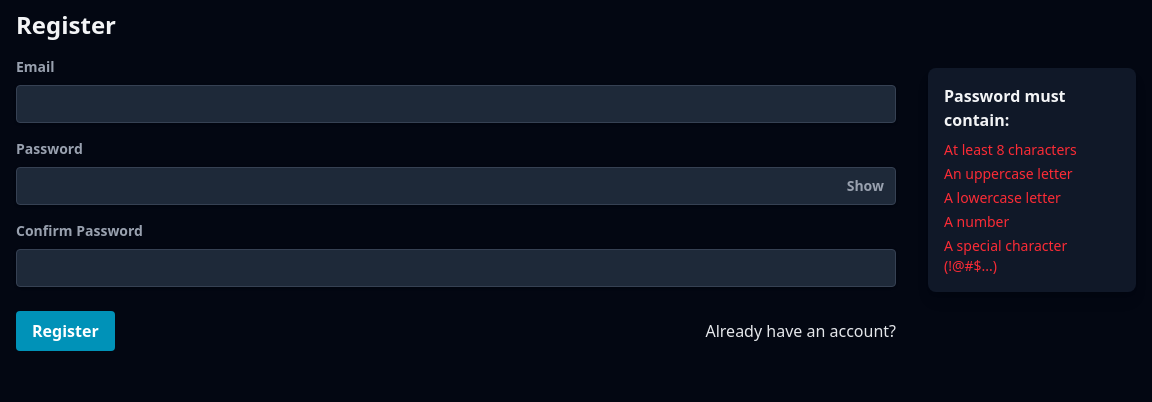
Test: RegistrationForm › shows error if password is invalid
Type "test@example.com" into the field labelled "Email" at (456, 104), box [16,85,896,123]
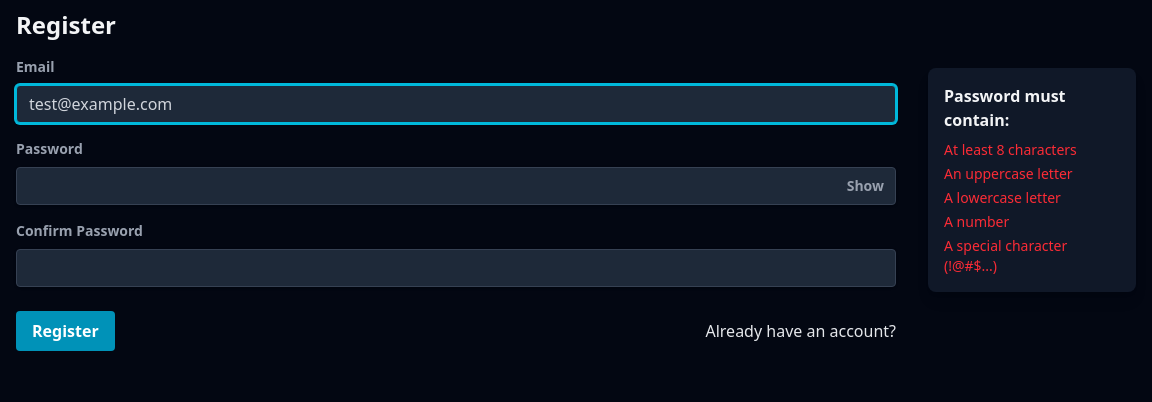
Type "weak" into the password field labelled "Password" at (456, 186), box [16,167,896,205]
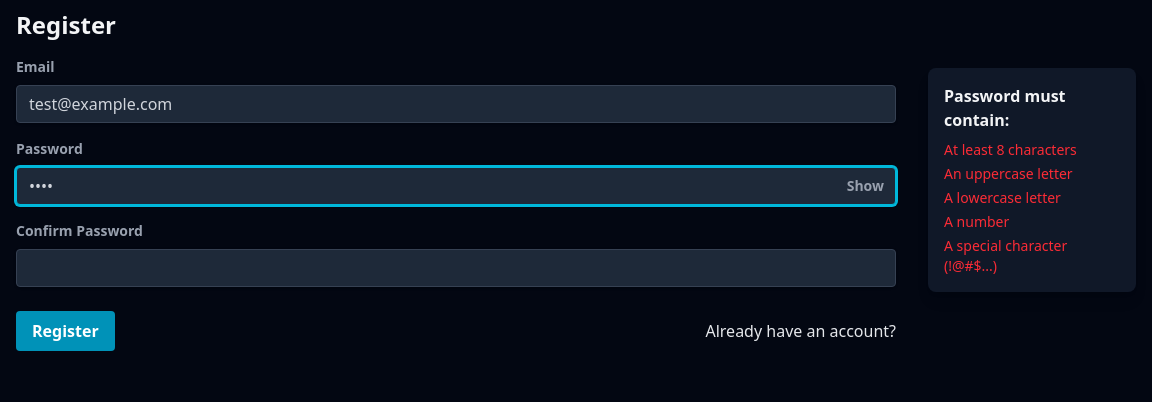
Type "weak" into the password field labelled "Confirm Password" at (456, 268), box [16,249,896,287]
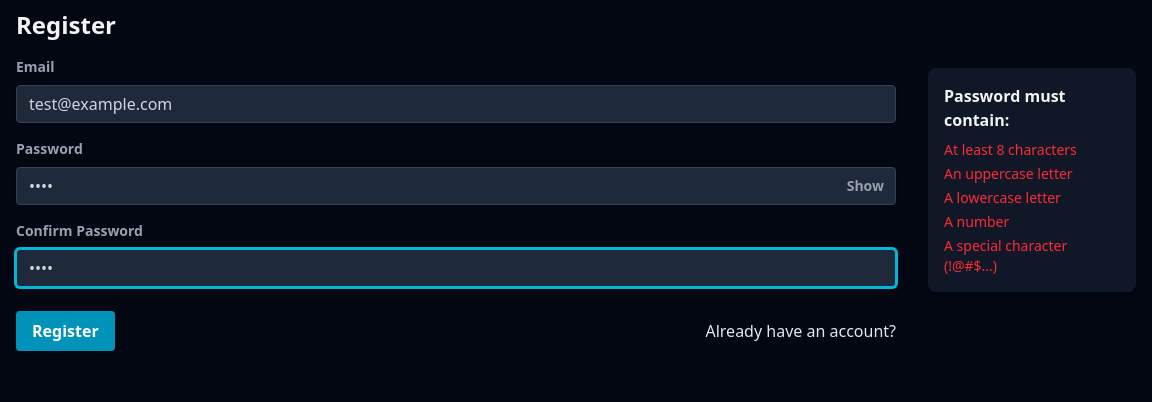
Click the button "Register" at (65, 331), box [16,311,115,351]
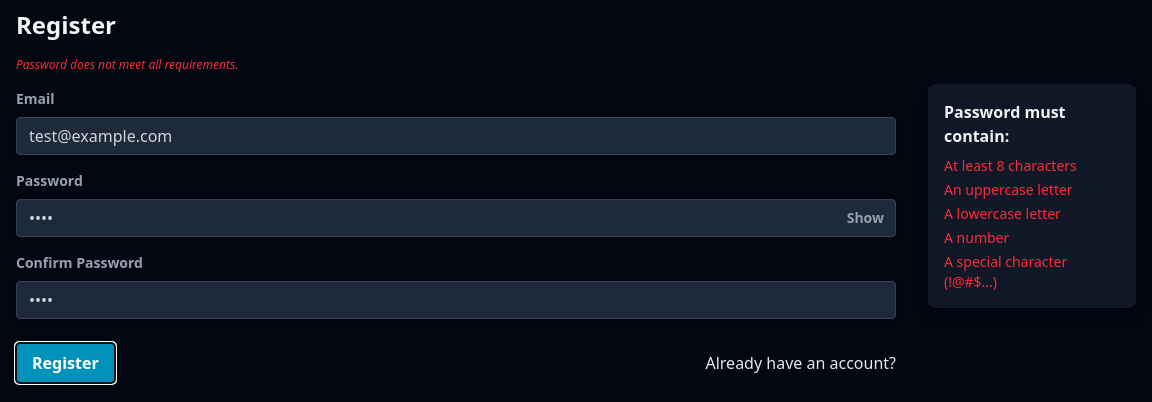
expect the text "Password does not meet all requirements." is shown: met, box [16,56,238,73]
